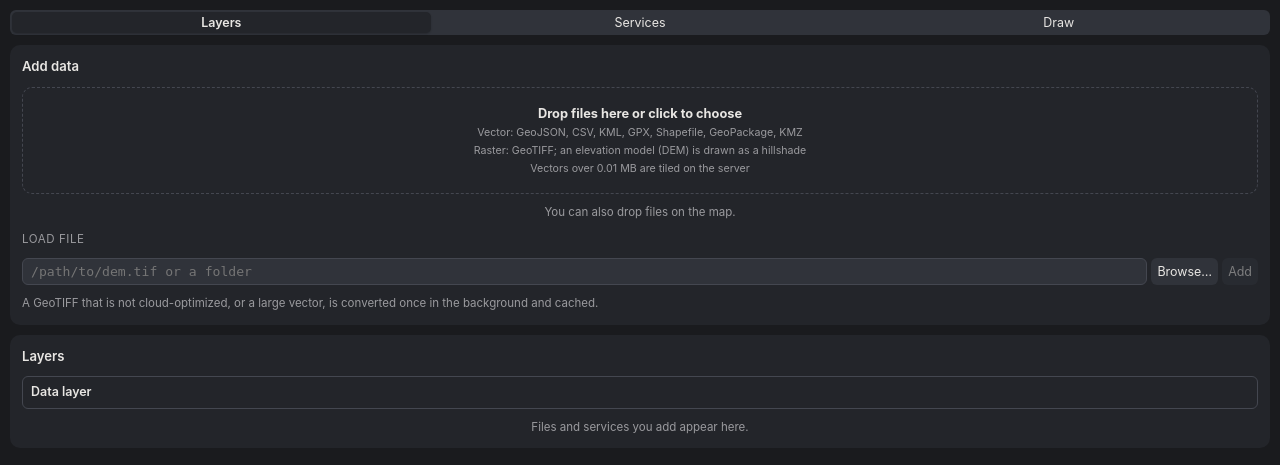
Scenario: Load file: browse a server folder › Browse is offered only where the server can list folders
This screenshot has width=1280, height=465.
Click the button "Browse…". click: point(1185, 272)
box: [1151,258,1218,285]
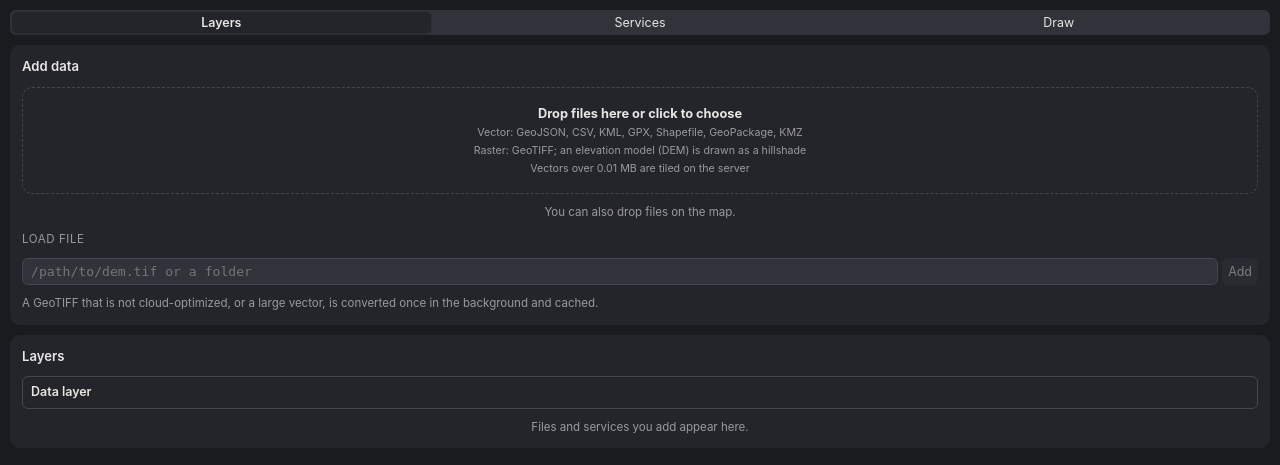
Check: the field named "File path on the server" is shown, box [22,258,1218,285]
Check: the button "Browse…" is gone
